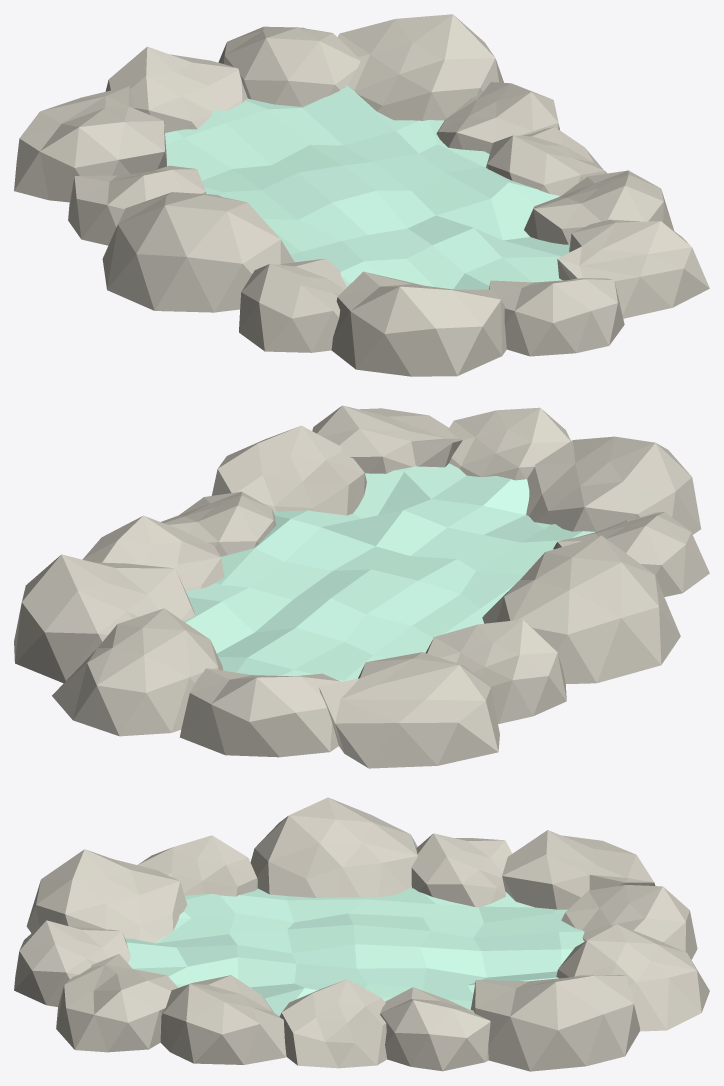
Rendered from pond-rect.glb.
3 renders of one model, top to bottom at view 1: azimuth 30°, elevation 25°; view 2: azimuth 150°, elevation 25°; view 3: azimuth 270°, elevation 25°, orthographic. The views are drawn at different scales.
Visible parts, largest first — view 1: Plane, Rock.003, Rock.005, Rock.011, Rock.002, Rock.001, Rock.006, Rock.004, Rock.012, Rock.007, Rock.008, Rock (+2 smaller); view 2: Plane, Rock.003, Rock.002, Rock.012, Rock.011, Rock.005, Rock.007, Rock.008, Rock, Rock.001, Rock.006, Rock.010 (+2 smaller); view 3: Plane, Rock.011, Rock.003, Rock.005, Rock.008, Rock.001, Rock.012, Rock.002, Rock.009, Rock.010, Rock, Rock.006 (+2 smaller).
Part boxes in pixels (x1=…): Plane: x1=165, y1=85, x2=569, y2=289; Rock.003: x1=102, y1=192, x2=294, y2=312; Rock.005: x1=331, y1=271, x2=506, y2=376; Rock.011: x1=337, y1=14, x2=503, y2=120; Rock.002: x1=14, y1=86, x2=166, y2=202; Rock.001: x1=557, y1=219, x2=709, y2=318; Rock.006: x1=488, y1=278, x2=624, y2=356; Rock.004: x1=239, y1=258, x2=346, y2=352; Rock.012: x1=218, y1=26, x2=360, y2=106; Rock.007: x1=105, y1=46, x2=247, y2=132; Rock.008: x1=524, y1=170, x2=674, y2=244; Rock: x1=68, y1=165, x2=206, y2=245; Plane: x1=184, y1=463, x2=595, y2=681; Rock.003: x1=482, y1=535, x2=680, y2=683; Rock.002: x1=319, y1=652, x2=499, y2=768; Rock.012: x1=52, y1=608, x2=223, y2=736; Rock.011: x1=14, y1=554, x2=194, y2=683; Rock.005: x1=526, y1=436, x2=700, y2=534; Rock.007: x1=179, y1=668, x2=340, y2=757; Rock.008: x1=211, y1=425, x2=366, y2=515; Rock: x1=425, y1=619, x2=566, y2=723; Rock.001: x1=312, y1=405, x2=462, y2=473; Rock.006: x1=448, y1=407, x2=570, y2=480; Rock.010: x1=82, y1=515, x2=224, y2=590; Plane: x1=125, y1=888, x2=584, y2=1015; Rock.011: x1=470, y1=975, x2=640, y2=1071; Rock.003: x1=250, y1=797, x2=417, y2=897; Rock.005: x1=26, y1=849, x2=187, y2=943; Rock.008: x1=160, y1=975, x2=286, y2=1064; Rock.001: x1=56, y1=954, x2=177, y2=1052; Rock.012: x1=556, y1=924, x2=709, y2=1031; Rock.002: x1=502, y1=830, x2=655, y2=909; Rock.009: x1=279, y1=979, x2=386, y2=1068; Rock.010: x1=380, y1=987, x2=490, y2=1071; Rock: x1=411, y1=833, x2=512, y2=907; Rock.006: x1=14, y1=920, x2=130, y2=1006.
Bounding box in the file's own units: 3.49 × 0.534 × 4.61.
